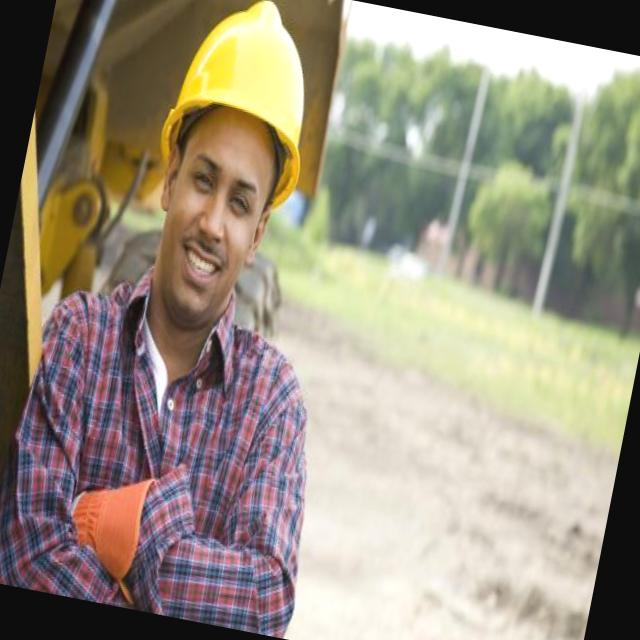helmet: (145, 0, 332, 231)
no-vest: (0, 255, 335, 611)
